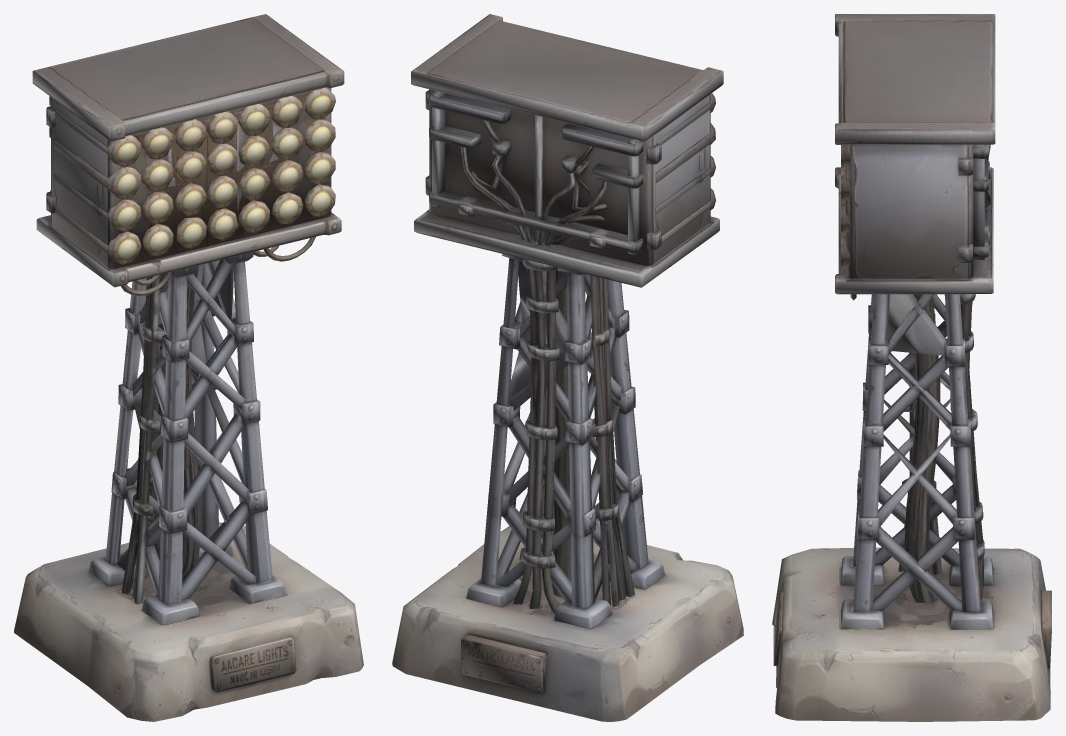
The model's file is light_tower.glb.
3 renders of one model, left to right at view 1: azimuth 30°, elevation 25°; view 2: azimuth 150°, elevation 25°; view 3: azimuth 270°, elevation 25°, orthographic. The views are drawn at different scales.
Parts seen in each view (by area): view 1: light_tower; view 2: light_tower; view 3: light_tower.
Part boxes in pixels (left/top/right/bottom): light_tower: left=14, top=14, right=363, bottom=721; light_tower: left=392, top=14, right=743, bottom=721; light_tower: left=772, top=14, right=1051, bottom=721.
Size of the model in its own units: 0.4321 by 0.9995 by 0.4292.
1 material, 1 textured.
